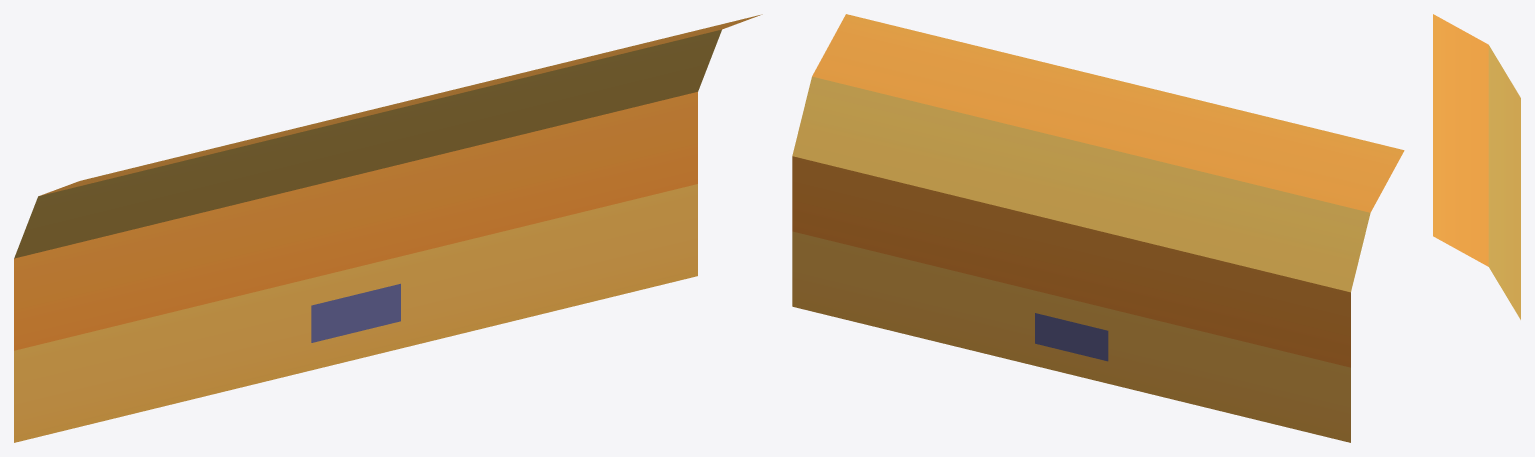
Rendered from kenney-conveyor-door-wide-open.glb.
3 views of the same model, side by side, from view 1: azimuth 30°, elevation 25°; view 2: azimuth 150°, elevation 25°; view 3: azimuth 270°, elevation 25° (orthographic). The views are drawn at different scales.
Visible parts, largest first — view 1: door-wide-open; view 2: door-wide-open; view 3: door-wide-open.
Boxes of the visible parts, x1=… form: door-wide-open: x1=14, y1=14, x2=762, y2=442; door-wide-open: x1=792, y1=14, x2=1404, y2=442; door-wide-open: x1=1433, y1=14, x2=1520, y2=319.
Bounding box in the file's own units: 1.8 × 0.7801 × 0.2999.
1 material, 1 textured.
